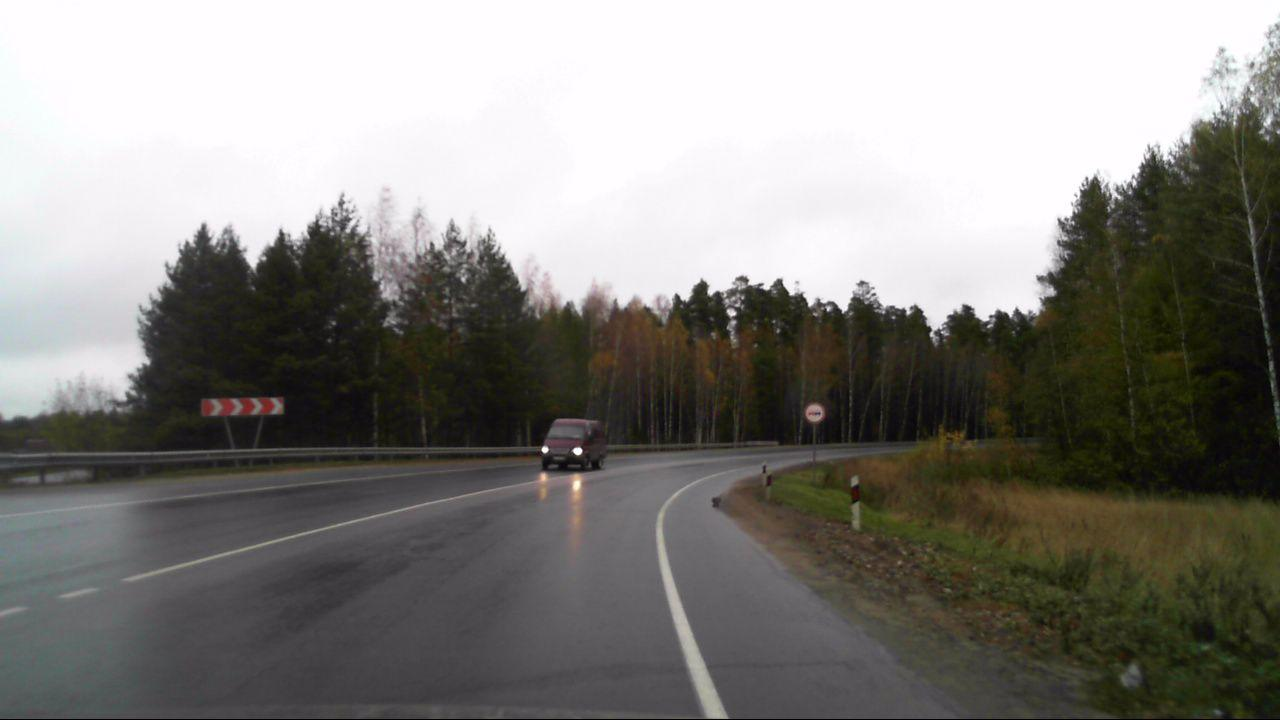road_sign: (198, 398, 286, 415), (801, 401, 828, 425)
